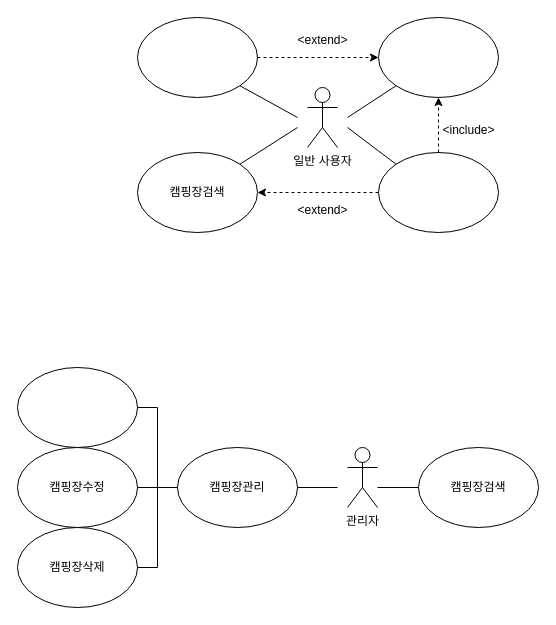
The diagram is 556 pixels wide and 625 high, and some of its shapes have lost their labels. The shapes that lost their labels are listed below. From the top down, each one's centre as x and y in pixels, then its label:
(197,57): 예약 조회
(438,57): 예약취소
(438,192): 캠핑장예약
(77,407): 캠핑장등록
